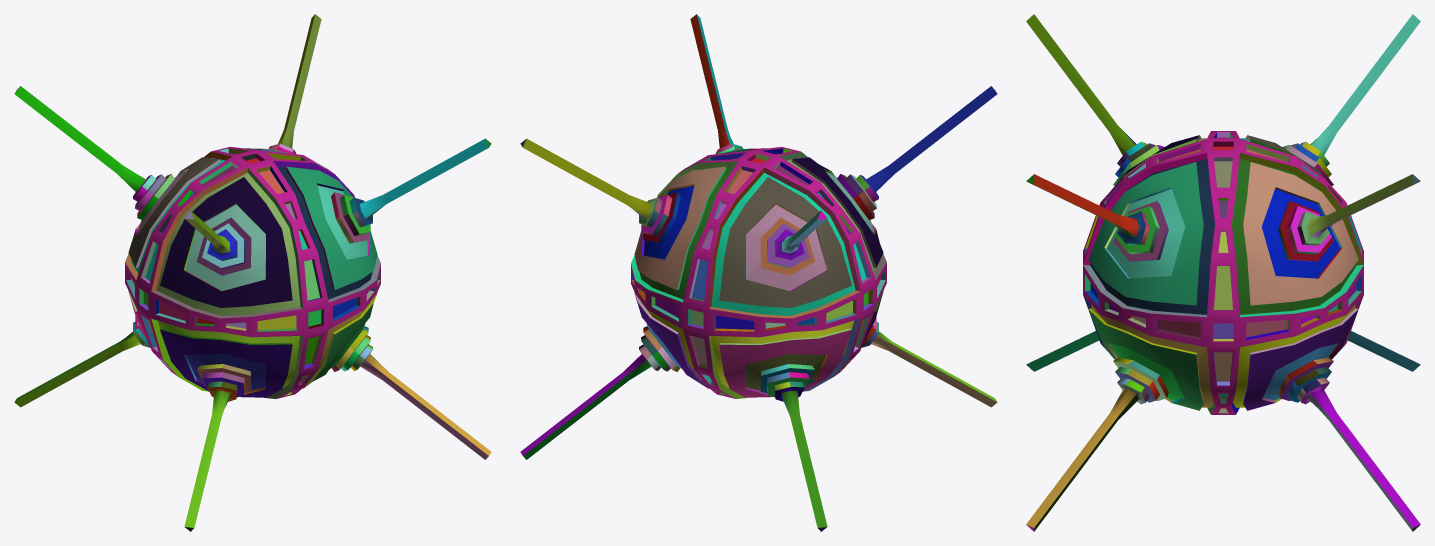
Rendered from spike.fbx.
3 views of the same model, side by side, from view 1: azimuth 30°, elevation 25°; view 2: azimuth 150°, elevation 25°; view 3: azimuth 270°, elevation 25° (orthographic). The views are drawn at different scales.
Parts seen in each view (by area): view 1: Sphere; view 2: Sphere; view 3: Sphere.
Part boxes in pixels (x1,y1,x2,y2): Sphere: [14, 14, 491, 531]; Sphere: [520, 14, 997, 531]; Sphere: [1026, 14, 1420, 531].
Size of the model in its own units: 713 by 713 by 713.
